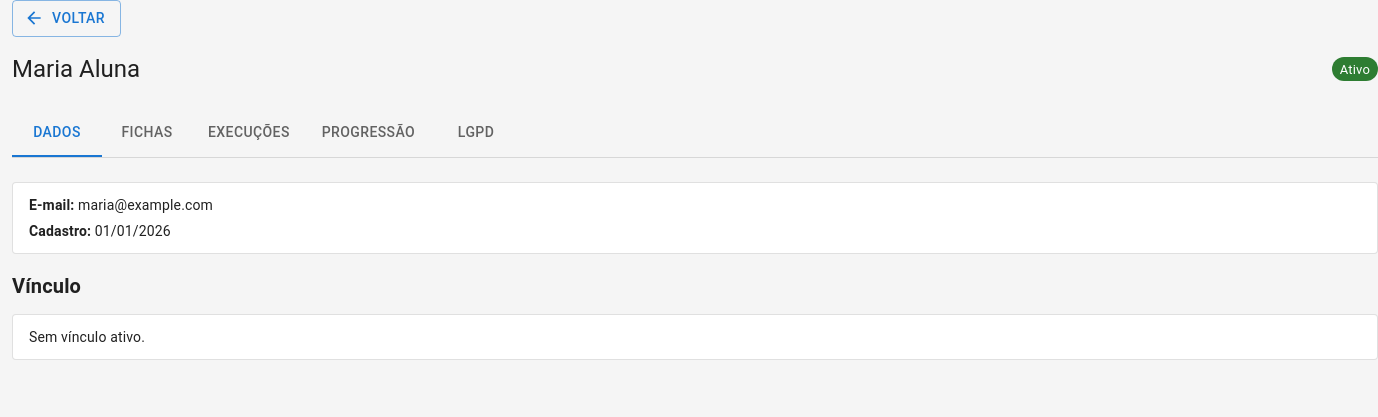
it: DetalheAlunoAdminPage — abas Fichas e Execuções › aba Fichas sem fichas mostra o EmptyState
Step 1. Click the tab "Fichas" → (147, 132), box [102, 108, 192, 156]
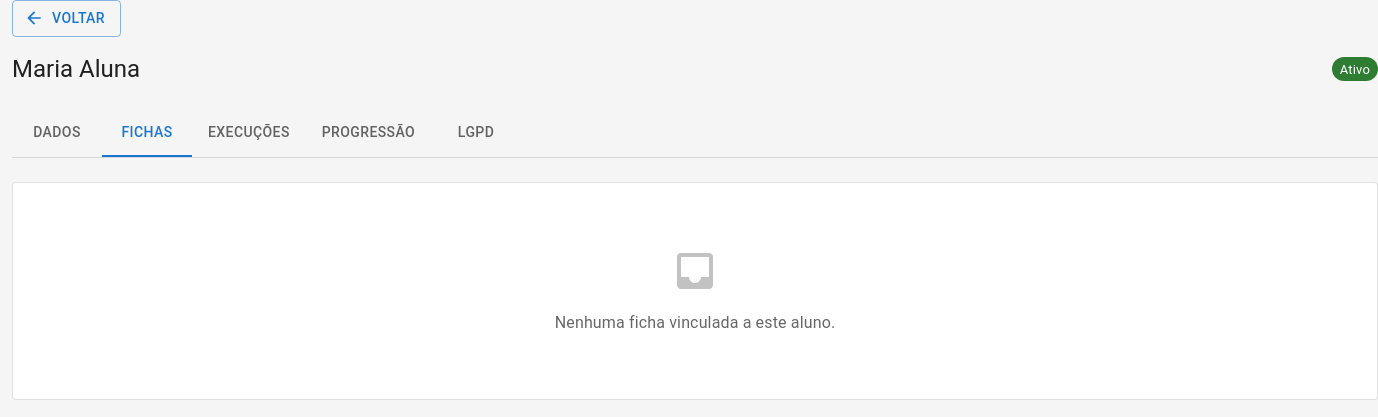
Expected: the text "Nenhuma ficha vinculada a este aluno." is shown, [555, 310, 835, 334]
